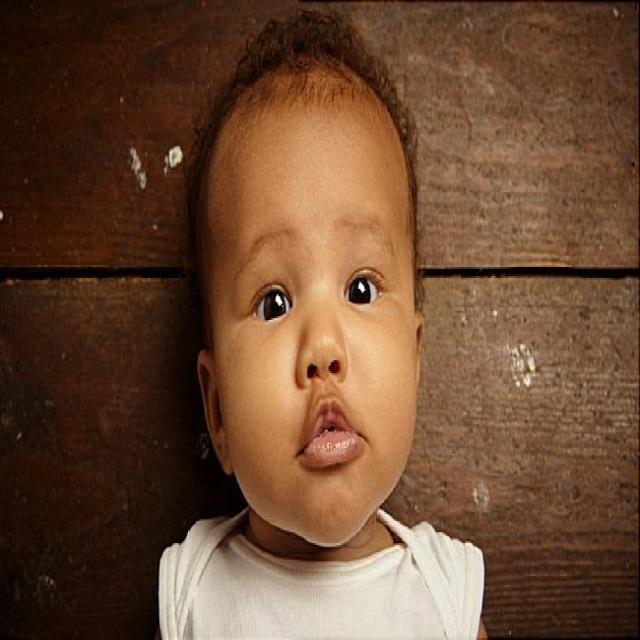non-dog: (155, 1, 488, 640)
